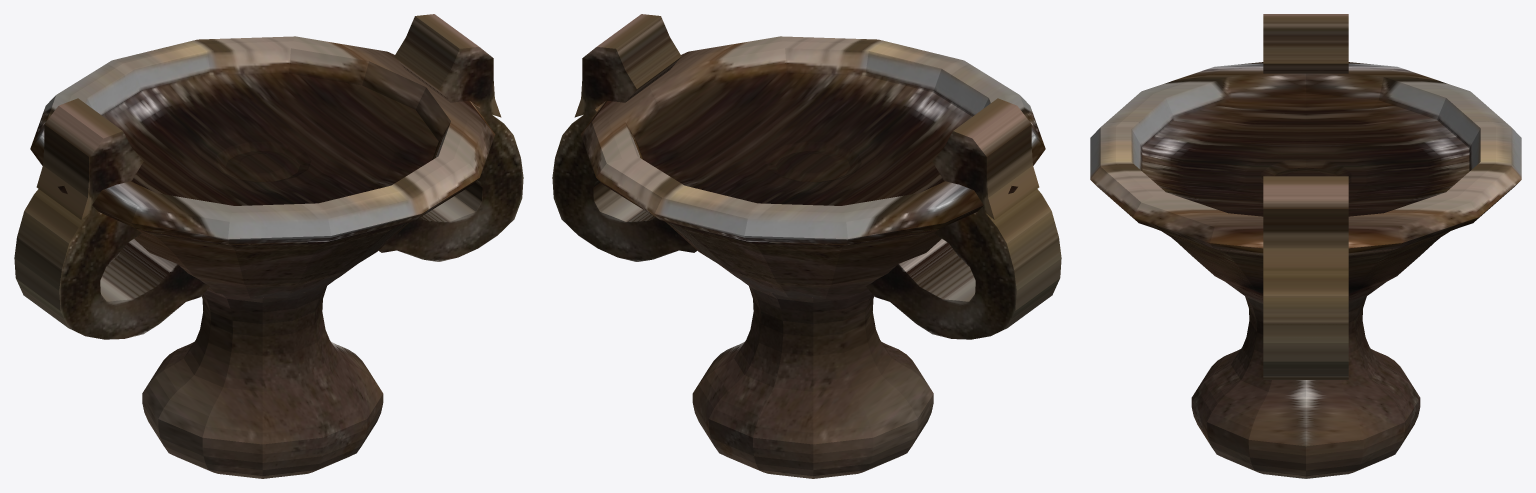
The model's file is model_bowl.obj.
3 renders of one model, left to right at view 1: azimuth 30°, elevation 25°; view 2: azimuth 150°, elevation 25°; view 3: azimuth 270°, elevation 25°, orthographic. The views are drawn at different scales.
Bounding box in the file's own units: 1.2 × 0.938 × 1.01.
1 material, 1 textured.
